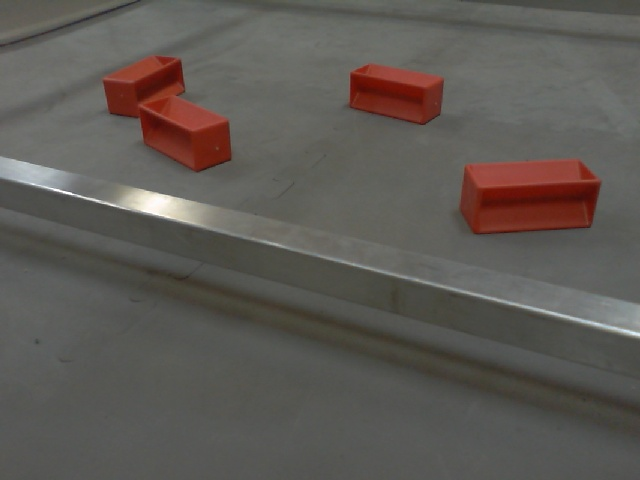RedSample: (461, 157, 604, 236), (138, 95, 236, 172), (348, 59, 447, 126), (103, 51, 186, 119)
